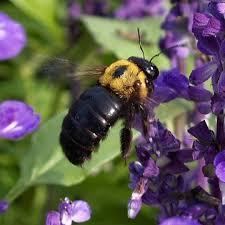Xylocopa: (39, 32, 175, 172)
